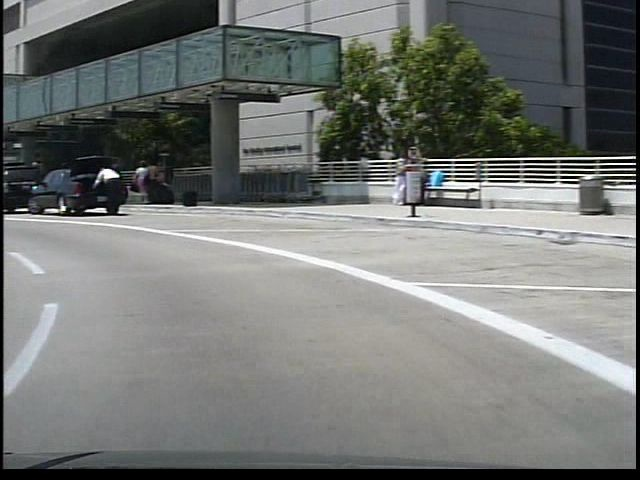person: (86, 165, 121, 220), (141, 157, 158, 208), (128, 161, 140, 202)
